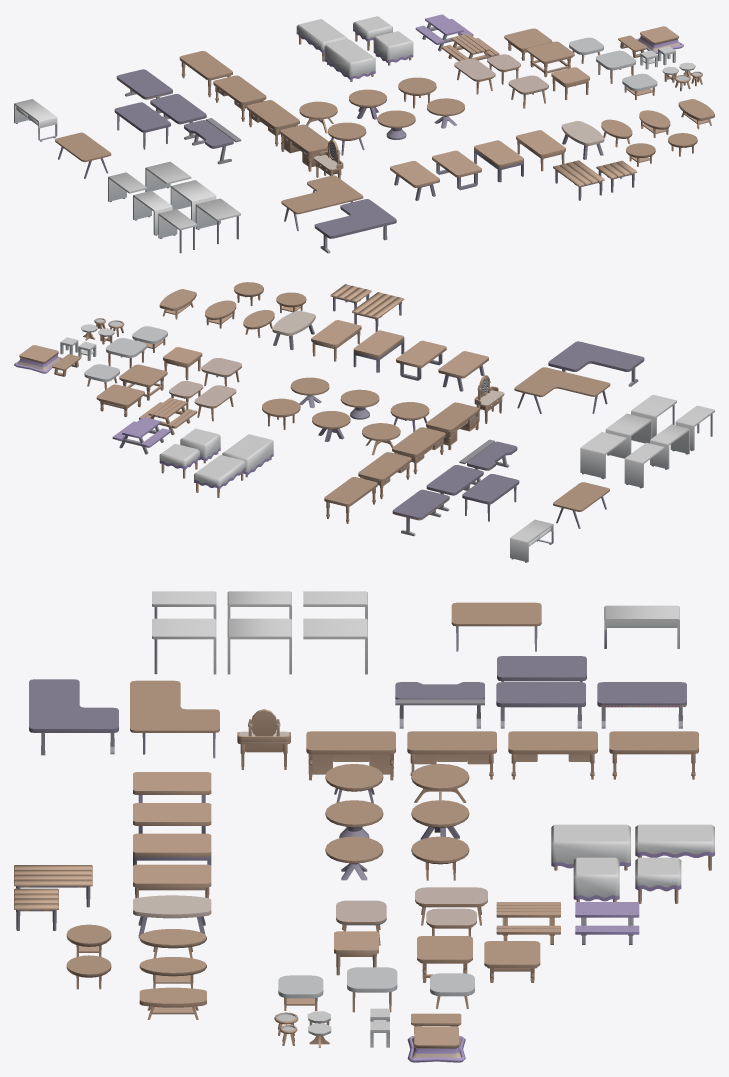
The model's file is tables.glb.
The picture shows the model from 3 angles, top to bottom: view 1: azimuth 30°, elevation 25°; view 2: azimuth 150°, elevation 25°; view 3: azimuth 270°, elevation 25°; orthographic projection. The views are drawn at different scales.
Parts seen in each view (by area): view 1: desk-gamer-corner, desk-slanted-legs-corner, table-classic-wood-rectangle-cloth-long, desk-classic-cabinets, desk-gamer-detailed, desk-gamer-legs, desk-classic-drawers-center, desk-classic-drawers, desk-gamer (%thumbnail), desk-gamer-rgb, desk-slanted-legs, table-rectangle-metal-legs-border (+41 smaller); view 2: desk-gamer-corner, desk-slanted-legs-corner, desk-classic-cabinets, desk-basic, desk-basic-wall, table-classic-wood-rectangle-cloth, table-classic-wood-rectangle-cloth-long, desk-gamer-rgb, desk-classic-drawers-center, desk-gamer-legs, desk-classic-drawers, desk-gamer (%thumbnail) (+40 smaller); view 3: desk-gamer-corner, desk-slanted-legs-corner, desk-classic-cabinets, table-classic-wood-rectangle-cloth-long, desk-classic-drawers-center, table-classic-wood-rectangle-cloth, desk-classic-drawers, desk-gamer-rgb, desk-gamer (%thumbnail), desk-slanted-legs, desk-classic, desk-gamer-legs (+41 smaller).
Boxes of the visible parts, x1=… form: desk-gamer-corner: x1=314, y1=199, x2=396, y2=253; desk-slanted-legs-corner: x1=281, y1=175, x2=363, y2=230; table-classic-wood-rectangle-cloth-long: x1=324, y1=39, x2=375, y2=81; desk-classic-cabinets: x1=280, y1=124, x2=328, y2=171; desk-gamer-detailed: x1=184, y1=118, x2=241, y2=164; desk-gamer-legs: x1=114, y1=102, x2=170, y2=149; desk-classic-drawers-center: x1=247, y1=100, x2=299, y2=146; desk-classic-drawers: x1=213, y1=75, x2=266, y2=121; desk-gamer (%thumbnail): x1=150, y1=94, x2=206, y2=139; desk-gamer-rgb: x1=116, y1=69, x2=172, y2=113; desk-slanted-legs: x1=55, y1=132, x2=111, y2=178; table-rectangle-metal-legs-border: x1=474, y1=140, x2=523, y2=182; desk-gamer-corner: x1=548, y1=341, x2=644, y2=386; desk-slanted-legs-corner: x1=514, y1=367, x2=610, y2=413; desk-classic-cabinets: x1=426, y1=402, x2=479, y2=449; desk-basic: x1=605, y1=413, x2=652, y2=458; desk-basic-wall: x1=580, y1=432, x2=626, y2=479; table-classic-wood-rectangle-cloth: x1=194, y1=455, x2=245, y2=497; table-classic-wood-rectangle-cloth-long: x1=222, y1=434, x2=273, y2=477; desk-gamer-rgb: x1=392, y1=489, x2=449, y2=536; desk-classic-drawers-center: x1=392, y1=427, x2=445, y2=474; desk-gamer-legs: x1=462, y1=474, x2=519, y2=521; desk-classic-drawers: x1=358, y1=452, x2=411, y2=498; desk-gamer (%thumbnail): x1=426, y1=465, x2=483, y2=511; desk-gamer-corner: x1=29, y1=679, x2=118, y2=755; desk-slanted-legs-corner: x1=130, y1=680, x2=219, y2=758; desk-classic-cabinets: x1=306, y1=731, x2=395, y2=780; table-classic-wood-rectangle-cloth-long: x1=551, y1=824, x2=630, y2=870; desk-classic-drawers-center: x1=407, y1=731, x2=496, y2=779; table-classic-wood-rectangle-cloth: x1=635, y1=824, x2=714, y2=870; desk-classic-drawers: x1=508, y1=731, x2=597, y2=779; desk-gamer-rgb: x1=597, y1=682, x2=686, y2=728; desk-gamer (%thumbnail): x1=496, y1=682, x2=585, y2=728; desk-slanted-legs: x1=451, y1=602, x2=541, y2=651; desk-classic: x1=609, y1=731, x2=698, y2=779; desk-gamer-legs: x1=497, y1=656, x2=586, y2=682.
Bounding box in the file's own units: 18.32 × 1.19 × 12.49.
Materials: 3 (2 with a texture image).
